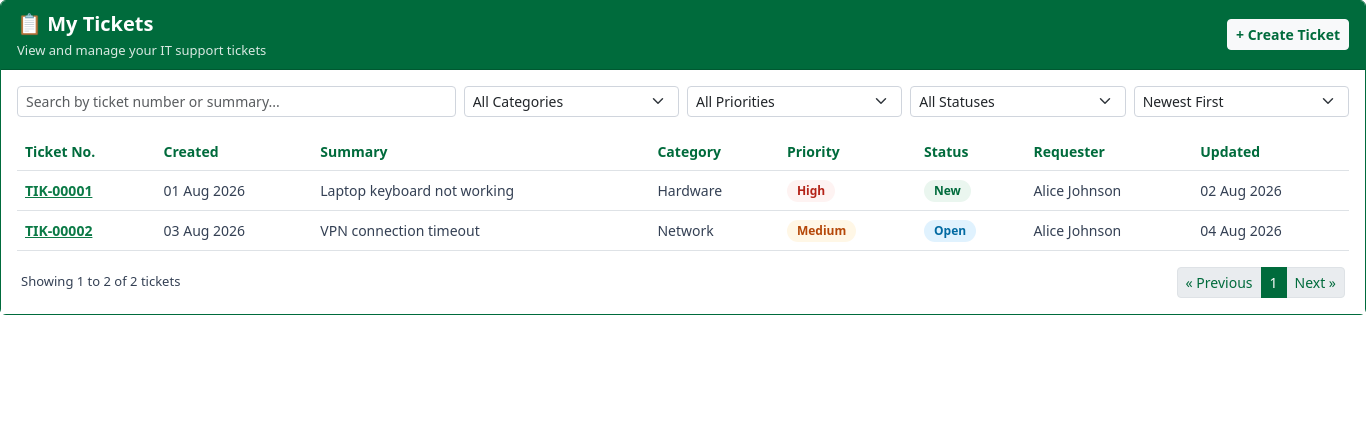
Scenario: MyTickets Component › should display no-results state when filters yield zero
This screenshot has width=1366, height=438.
expect the element with test id "desktop-table" is shown: met, box [17,132,1349,250]
Type "nonexistent-xyz" into the field with test id "search-input". click: (236, 101)
box: [17,86,456,116]
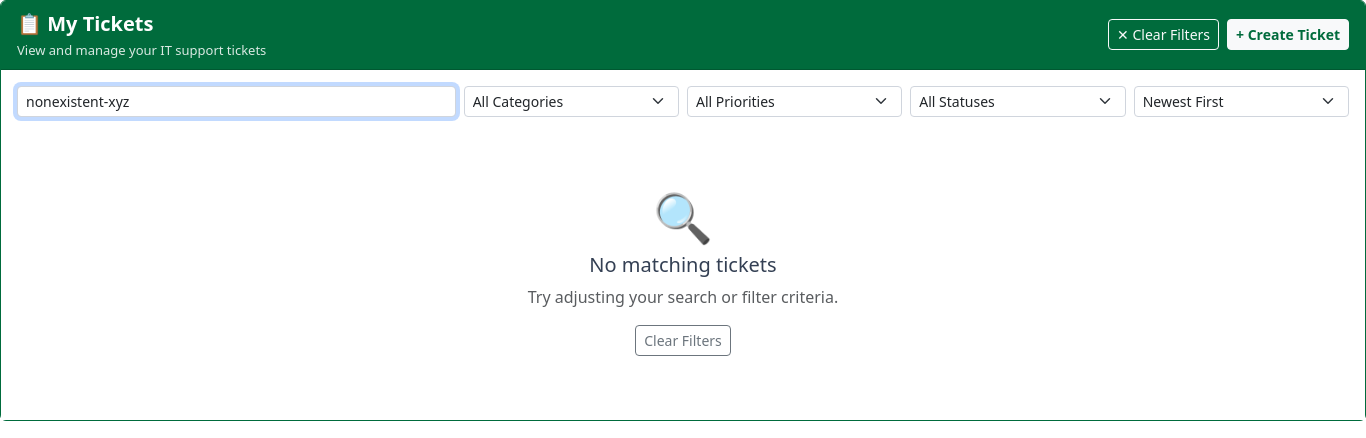
expect the element with test id "no-results-state" is shown: met, box [528,184,838,356]
expect the heading "No matching tickets" is shown: met, box [589,250,777,278]
